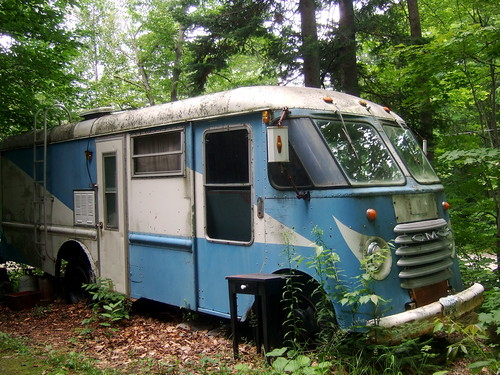trailer home: (5, 92, 435, 346)
vegetation: (10, 1, 500, 118)
